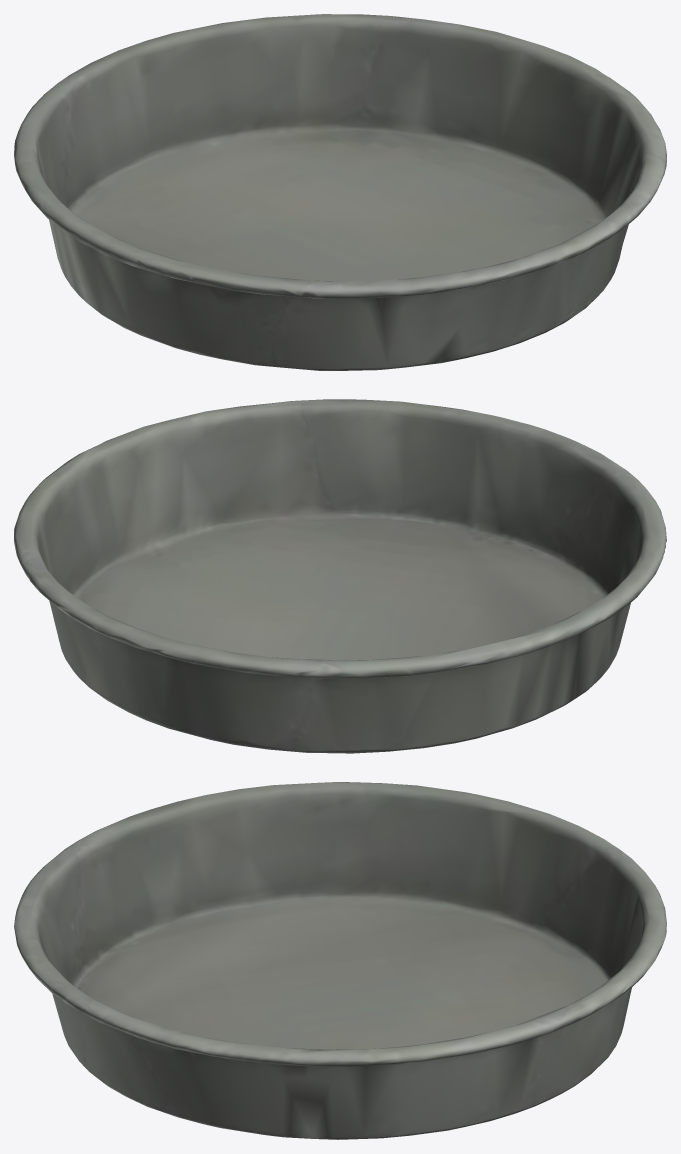
The model's file is Chef_Style_Round_Cake_Pan_9_inch_pan-high.glb.
3 renders of one model, top to bottom at view 1: azimuth 30°, elevation 25°; view 2: azimuth 150°, elevation 25°; view 3: azimuth 270°, elevation 25°, orthographic.
Parts seen in each view (by area): view 1: Chef_Style_Round_Cake_Pan_9_inch_pan; view 2: Chef_Style_Round_Cake_Pan_9_inch_pan; view 3: Chef_Style_Round_Cake_Pan_9_inch_pan.
Part boxes in pixels (x1,y1,x2,y2): Chef_Style_Round_Cake_Pan_9_inch_pan: [14, 14, 666, 370]; Chef_Style_Round_Cake_Pan_9_inch_pan: [14, 399, 666, 753]; Chef_Style_Round_Cake_Pan_9_inch_pan: [14, 782, 666, 1139].
Size of the model in its own units: 0.2457 by 0.0452 by 0.246.
Materials: 1 (1 with a texture image).
